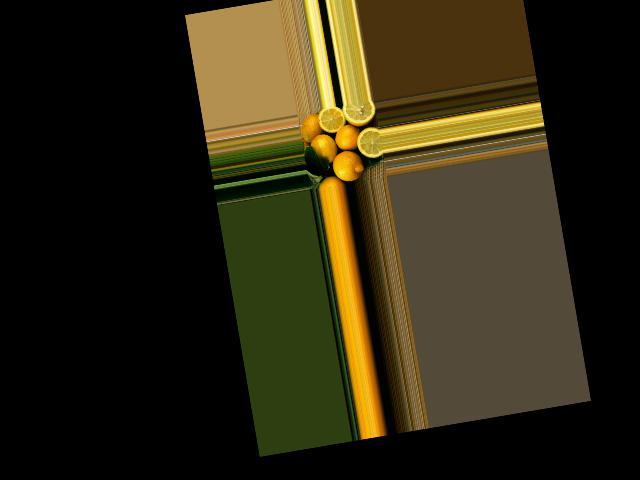lemon: (298, 112, 325, 145)
